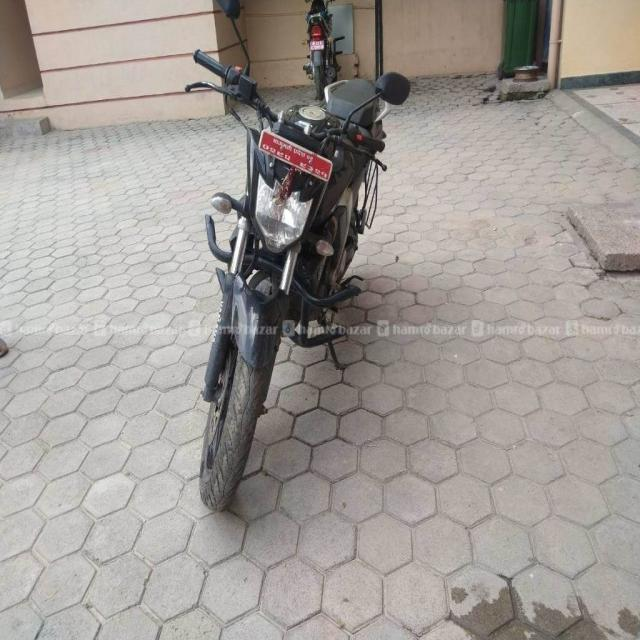License-plate: (258, 125, 332, 183)
